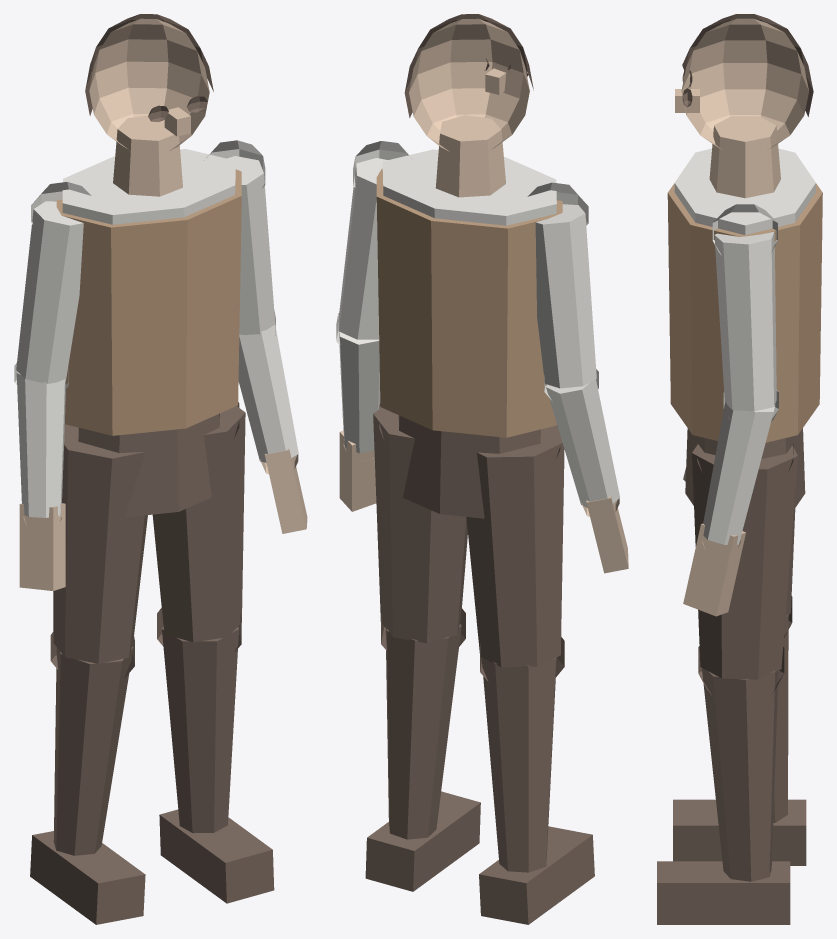
File: villager_man.glb
The picture shows the model from 3 angles, left to right: view 1: azimuth 30°, elevation 25°; view 2: azimuth 150°, elevation 25°; view 3: azimuth 270°, elevation 25°; orthographic projection.
Parts seen in each view (by area): view 1: villager-man; view 2: villager-man; view 3: villager-man.
Part boxes in pixels (x1,y1,x2,y2): villager-man: [14, 14, 307, 924]; villager-man: [336, 14, 628, 924]; villager-man: [657, 14, 822, 924].
Bounding box in the file's own units: 0.6156 × 1.76 × 0.3045.
